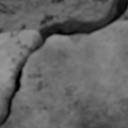broken_brick: (2, 20, 127, 127), (0, 29, 38, 119)
crack: (0, 0, 127, 127)
